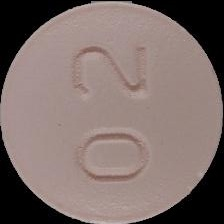16714-683: (0, 0, 224, 224)
